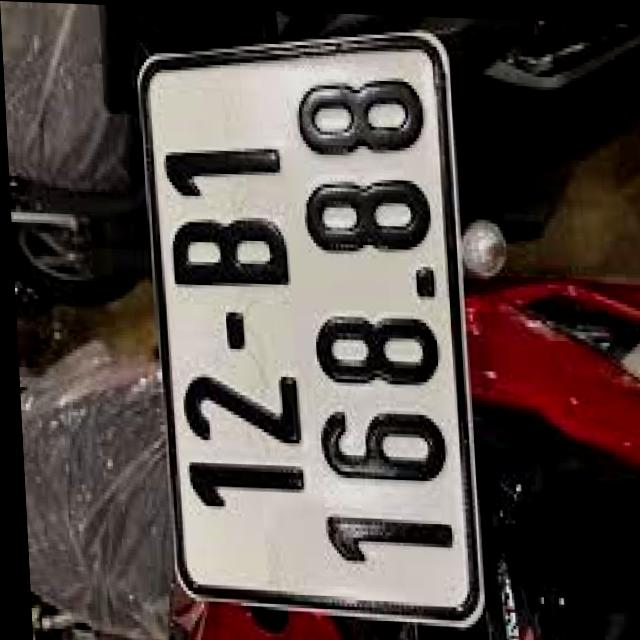a: (133, 7, 482, 617)
bien so: (130, 5, 504, 626)
